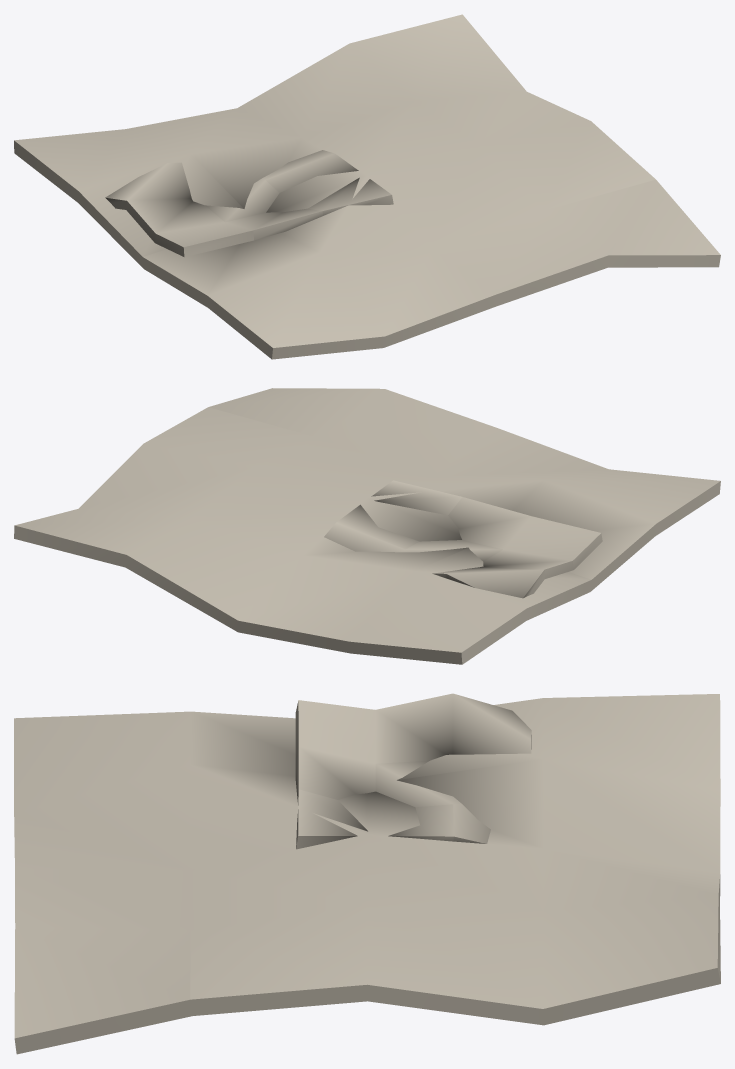
Rendered from wet_towel.glb.
The picture shows the model from 3 angles, top to bottom: view 1: azimuth 30°, elevation 25°; view 2: azimuth 150°, elevation 25°; view 3: azimuth 270°, elevation 25°; orthographic projection. The views are drawn at different scales.
Visible parts, largest first — view 1: wet_towel; view 2: wet_towel; view 3: wet_towel.
Part boxes in pixels (x1,y1,x2,y2): wet_towel: (14, 14, 720, 359); wet_towel: (14, 388, 720, 664); wet_towel: (14, 693, 720, 1054).
Bounding box in the file's own units: 0.3008 × 0.0411 × 0.3014.
